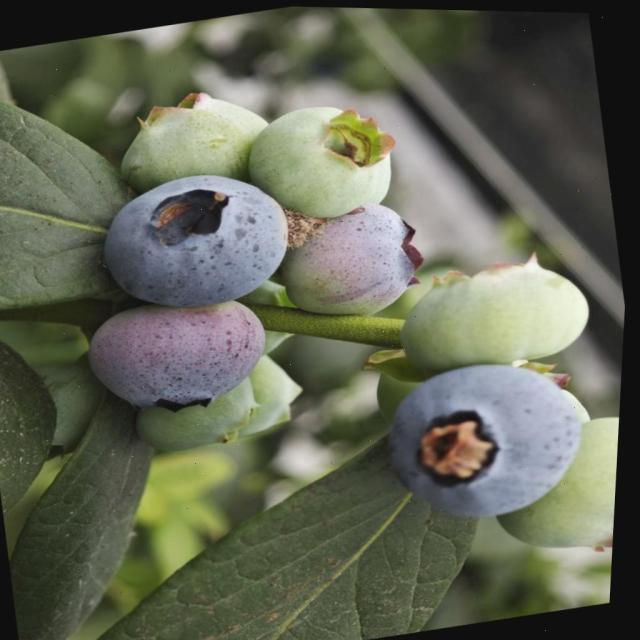RipeBlueBerry: (372, 346, 602, 535), (92, 156, 306, 320)
Semi-RipeBlueBerry: (78, 284, 283, 425), (274, 193, 436, 326)
UnripeBlueBerry: (390, 244, 606, 378), (238, 88, 414, 228), (105, 76, 281, 195), (492, 407, 624, 565)
